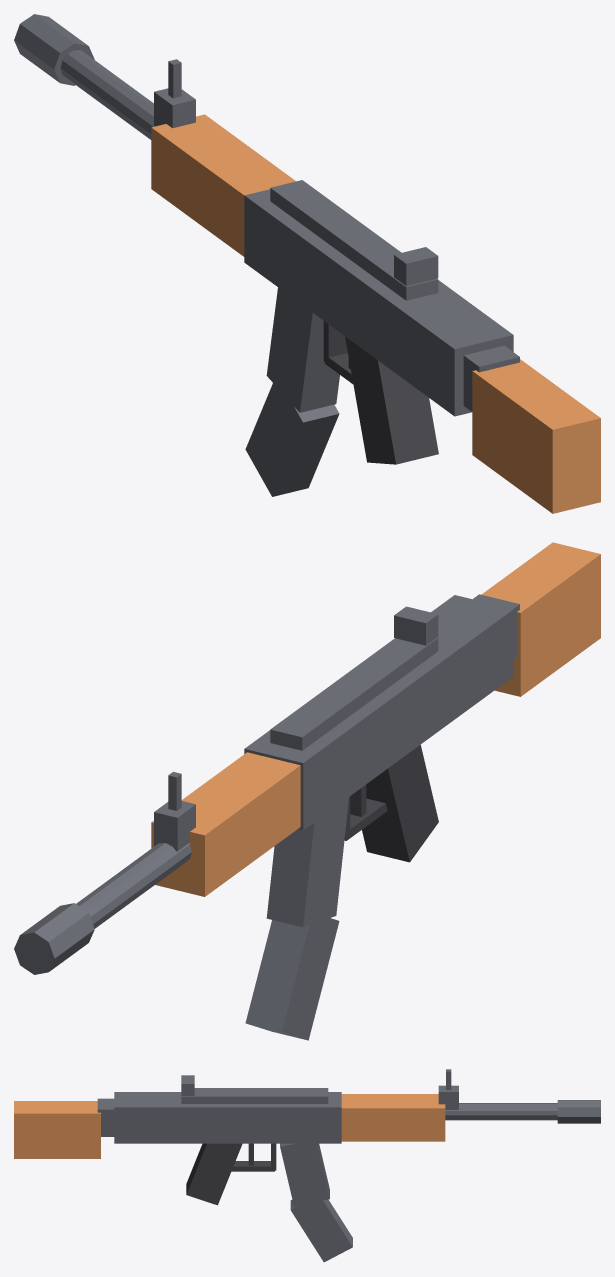
Rendered from rifle.glb.
The picture shows the model from 3 angles, top to bottom: view 1: azimuth 30°, elevation 25°; view 2: azimuth 150°, elevation 25°; view 3: azimuth 270°, elevation 25°; orthographic projection. The views are drawn at different scales.
Parts seen in each view (by area): view 1: Receiver, Stock, Handguard, PistolGrip, MagazineBottom, TopRail, MagazineTop, Barrel, MuzzleBrake, RearSight, StockTube, GasBlock (+1 smaller); view 2: Receiver, Handguard, Stock, MagazineBottom, MagazineTop, TopRail, PistolGrip, Barrel, MuzzleBrake, GasBlock, RearSight, TriggerGuardBottom; view 3: Receiver, Stock, Handguard, MagazineBottom, MagazineTop, PistolGrip, TopRail, Barrel, MuzzleBrake, StockTube, GasBlock, TriggerGuardBottom (+1 smaller).
Boxes of the visible parts, x1,y1,x2,y2 form: Receiver: (244,189,513,416); Stock: (472,359,600,513); Handguard: (151,114,295,256); PistolGrip: (345,336,438,464); MagazineBottom: (245,375,339,496); TopRail: (270,180,438,300); MagazineTop: (266,287,339,412); Barrel: (60,50,154,139); MuzzleBrake: (14,14,94,85); RearSight: (394,247,438,286); StockTube: (463,345,519,411); GasBlock: (154,88,195,128); Receiver: (244,595,513,830); Handguard: (151,752,300,896); Stock: (481,542,600,696); MagazineBottom: (245,913,339,1040); MagazineTop: (266,797,348,927); TopRail: (270,637,438,750); PistolGrip: (362,745,438,862); Barrel: (76,843,191,928); MuzzleBrake: (14,903,94,974); GasBlock: (154,801,195,851); RearSight: (394,606,438,645); TriggerGuardBottom: (345,798,387,840); Receiver: (114,1092,341,1143); Stock: (14,1101,100,1158); Handguard: (341,1094,445,1141); MagazineBottom: (290,1195,352,1262); MagazineTop: (280,1143,329,1205); PistolGrip: (186,1143,242,1205); TopRail: (181,1088,328,1103); Barrel: (445,1103,557,1120); MuzzleBrake: (557,1100,600,1123); StockTube: (97,1098,114,1136); GasBlock: (438,1085,458,1109); TriggerGuardBottom: (231,1161,274,1171).
Bounding box in the file's own units: 0.055 × 0.3088 × 0.8775.
